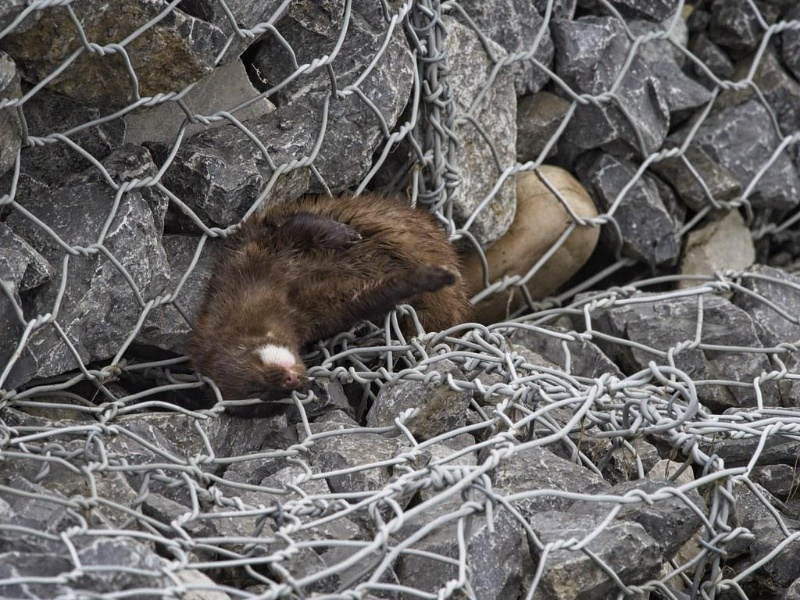minkish: (200, 192, 468, 403)
